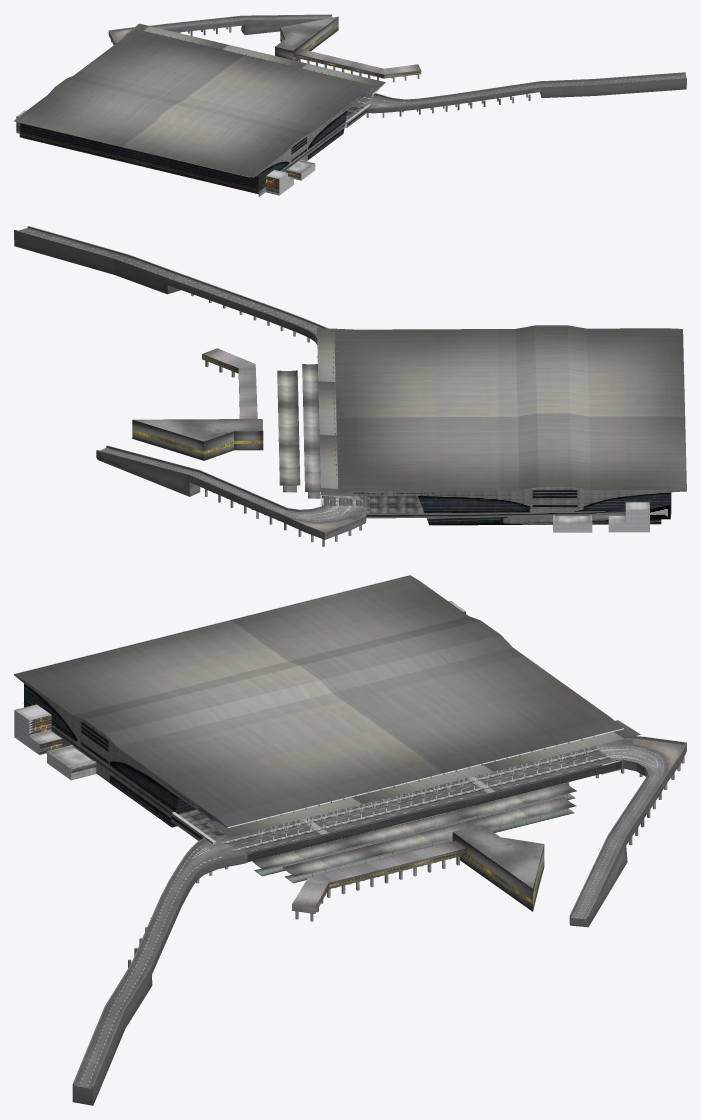
File: vidp_t3ent.glb
3 renders of one model, top to bottom at view 1: azimuth 30°, elevation 25°; view 2: azimuth 150°, elevation 25°; view 3: azimuth 270°, elevation 25°, orthographic. The views are drawn at different scales.
Visible parts, largest first — view 1: T3MAN, T3RDL, T3RDR, T3ENSH, T3PRB, T3CON2, T3CN, T3PL; view 2: T3MAN, T3RDL, T3RDR, T3PKP, T3PRB, T3ENSH, T3CN, T3CON2; view 3: T3MAN, T3ENRD, T3PKP, T3RDL, T3RDR, T3PRB, T3ENSH, T3CON2, T3CN, T3ENSP2.
Part boxes in pixels (x1,y1,x2,y2): T3MAN: [14, 29, 375, 196]; T3RDL: [360, 72, 686, 113]; T3RDR: [108, 14, 332, 44]; T3ENSH: [125, 23, 385, 97]; T3PRB: [275, 16, 338, 61]; T3CON2: [294, 49, 421, 82]; T3CN: [16, 110, 315, 195]; T3PL: [111, 27, 530, 117]; T3MAN: [334, 325, 686, 525]; T3RDL: [14, 226, 327, 357]; T3RDR: [96, 445, 366, 539]; T3PKP: [277, 364, 320, 498]; T3PRB: [132, 419, 263, 460]; T3ENSH: [317, 328, 362, 500]; T3CN: [553, 502, 649, 532]; T3CON2: [202, 348, 257, 418]; T3MAN: [14, 575, 623, 844]; T3ENRD: [216, 746, 623, 862]; T3PKP: [252, 783, 576, 883]; T3RDL: [72, 835, 247, 1105]; T3RDR: [569, 736, 686, 927]; T3PRB: [452, 824, 544, 911]; T3ENSH: [206, 720, 640, 836]; T3CON2: [292, 840, 466, 921]; T3CN: [14, 601, 465, 780]; T3ENSP2: [253, 734, 594, 842].
Size of the model in its own units: 882 by 54.98 by 530.
18 materials, 18 textured.
